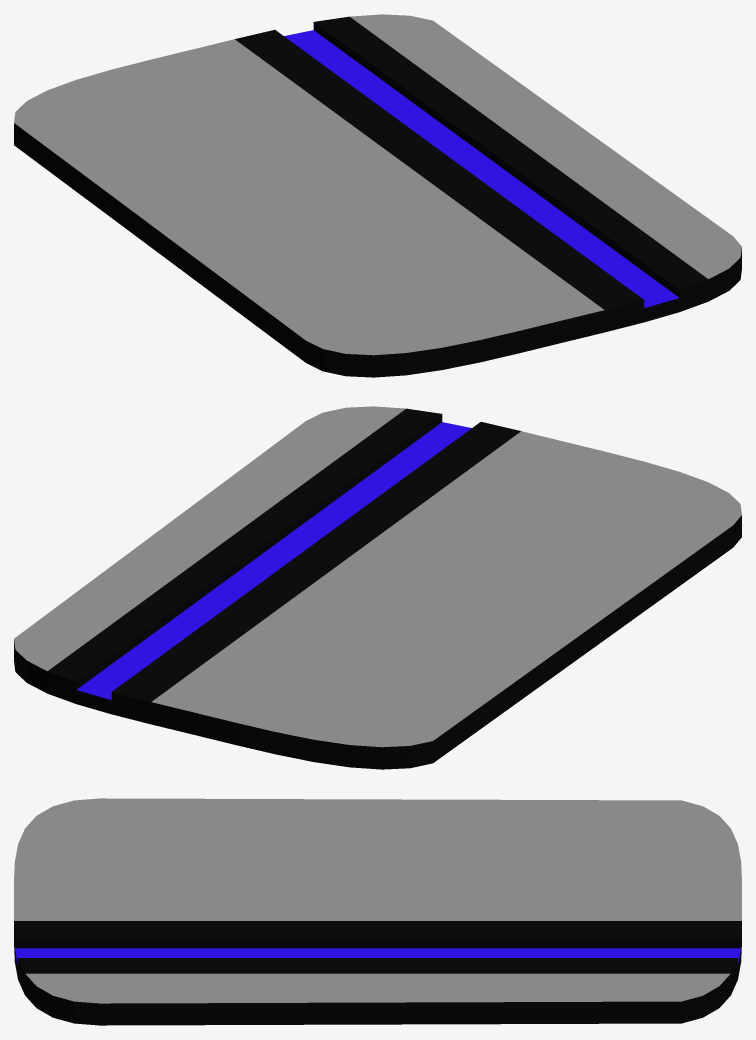
Rendered from KeycardBlue.fbx.
3 views of the same model, one above another, from view 1: azimuth 30°, elevation 25°; view 2: azimuth 150°, elevation 25°; view 3: azimuth 270°, elevation 25° (orthographic).
Parts seen in each view (by area): view 1: Sphere; view 2: Sphere; view 3: Sphere.
Part boxes in pixels (x1,y1,x2,y2): Sphere: (14,14,741,377); Sphere: (14,406,741,769); Sphere: (14,798,741,1025).
Size of the model in its own units: 200 by 10 by 300.
